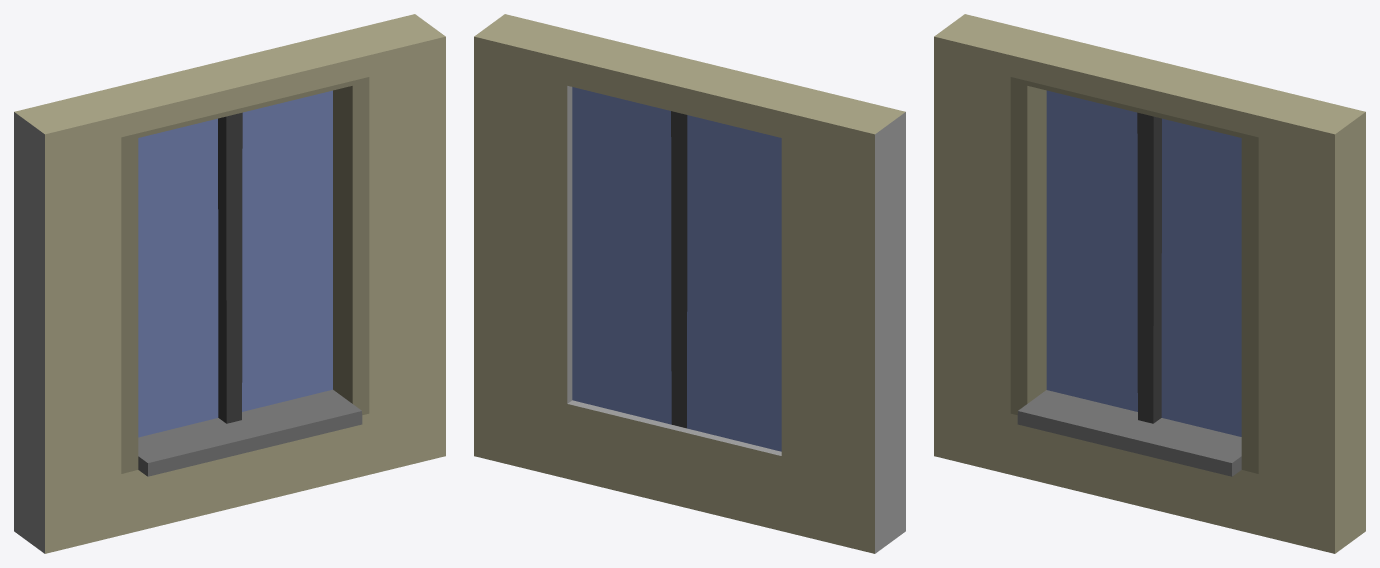
File: Wall_with_Window_Textured.fbx
3 views of the same model, side by side, from view 1: azimuth 30°, elevation 25°; view 2: azimuth 150°, elevation 25°; view 3: azimuth 330°, elevation 25° (orthographic).
Visible parts, largest first — view 1: pCube2; view 2: pCube2; view 3: pCube2.
Part boxes in pixels (x1,y1,x2,y2): pCube2: (14,14,445,553); pCube2: (474,14,905,553); pCube2: (934,14,1365,553).
Bounding box in the file's own units: 150 × 150 × 26.22.
